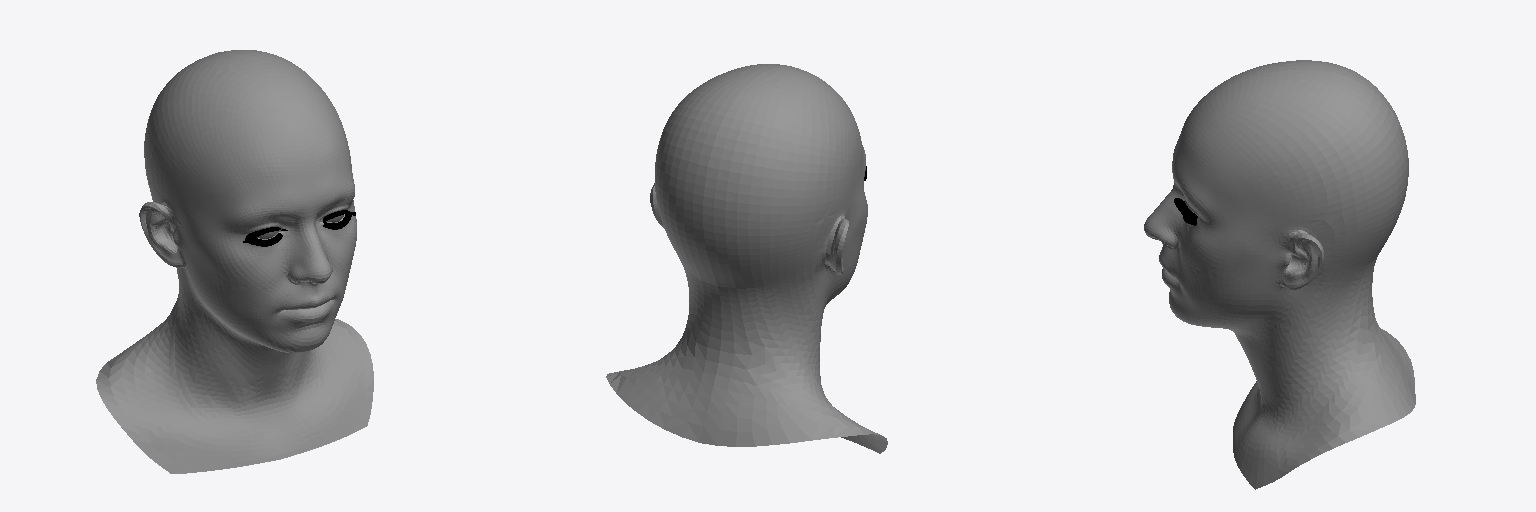
The model's file is identity028.obj.
3 renders of one model, left to right at view 1: azimuth 30°, elevation 25°; view 2: azimuth 150°, elevation 25°; view 3: azimuth 270°, elevation 25°, orthographic.
Bounding box in the file's own units: 24.83 × 33.81 × 22.35.